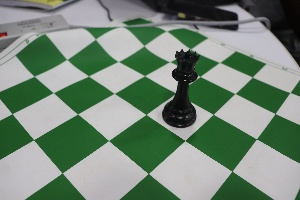black_queen: (162, 38, 200, 131)
